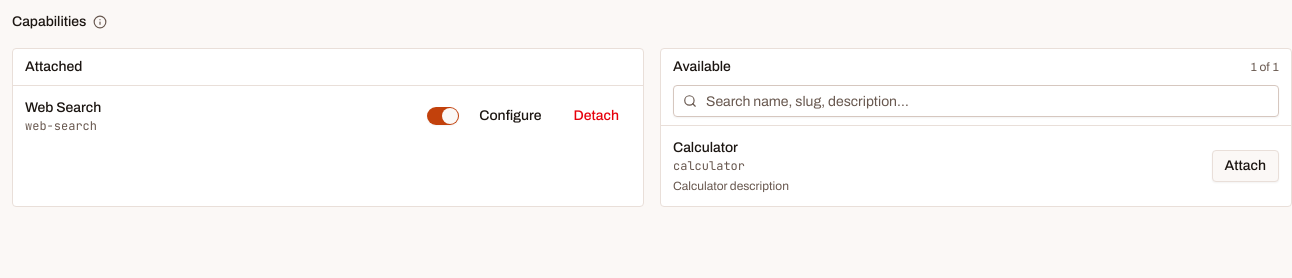
Test: AgentCapabilitiesTab › error and edge-case paths › renders generic fallback message when Detach DELETE rejects with a non-APIClientError
Expected: the text "Web Search" is shown, x1=25 y1=98 x2=101 y2=118
Note: click Detach
Step 1. Click the button "Detach" → point(596, 116), box x1=562 y1=100 x2=631 y2=132
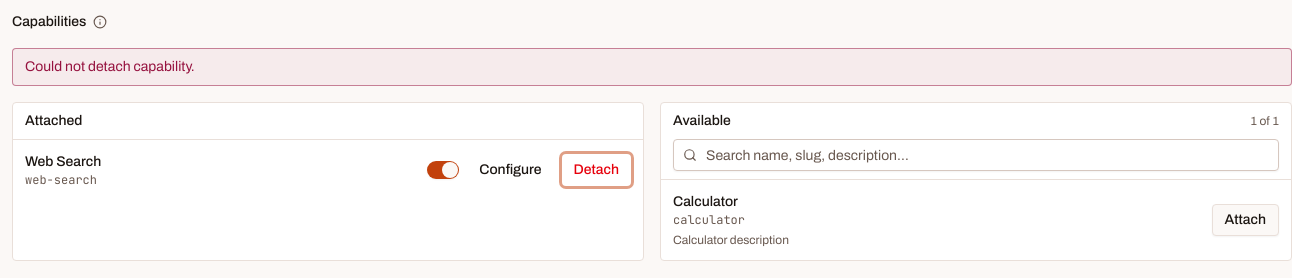
Result: the text "Could not detach capability." is shown at x1=12 y1=48 x2=1291 y2=86
